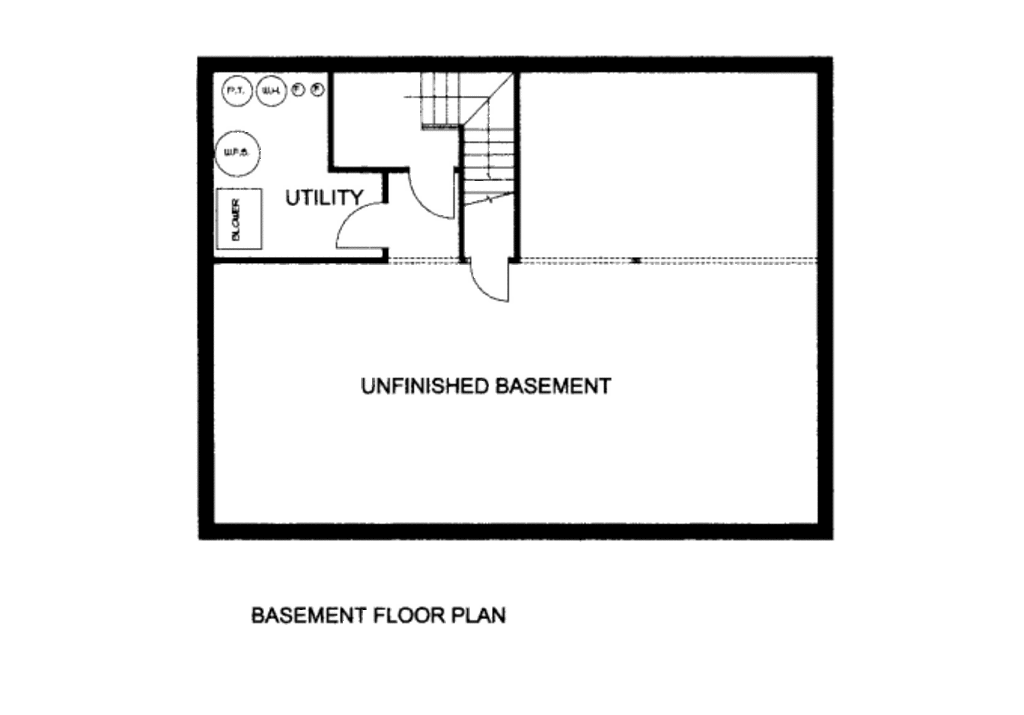door: (332, 194, 391, 258), (402, 168, 457, 218), (462, 255, 516, 304)
stairs: (411, 72, 529, 192)
